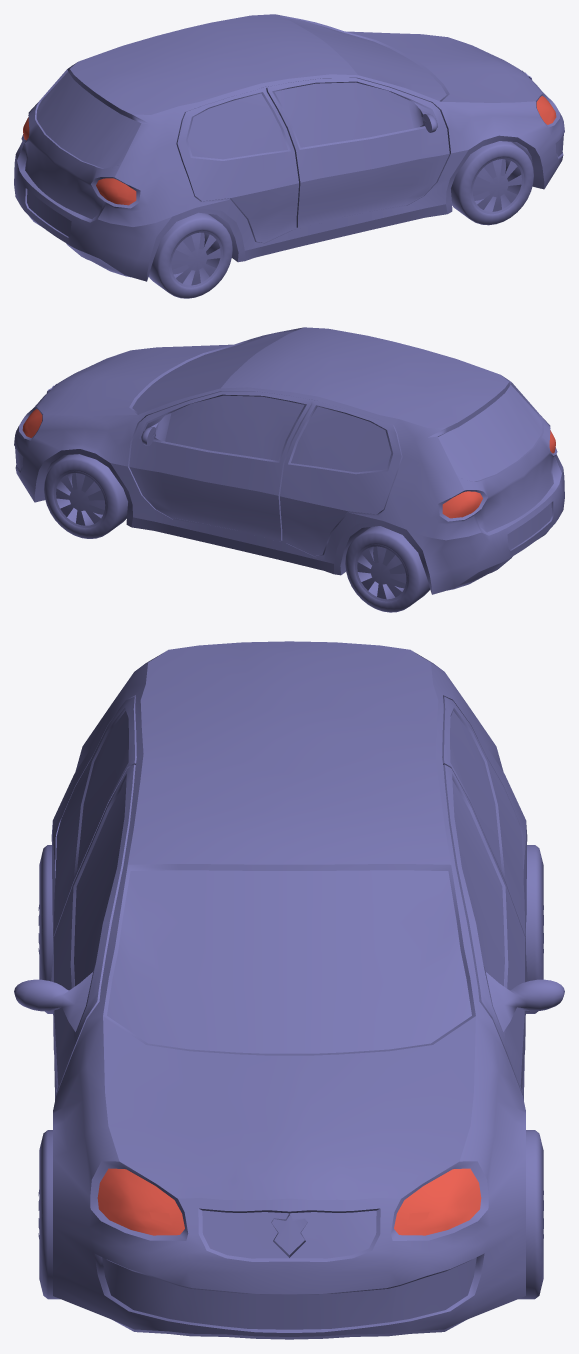
File: gol_mod3d.fbx
3 views of the same model, one above another, from view 1: azimuth 30°, elevation 25°; view 2: azimuth 150°, elevation 25°; view 3: azimuth 270°, elevation 25° (orthographic). The views are drawn at different scales.
Visible parts, largest first — view 1: Veiculo, Roda.003, Roda.002; view 2: Veiculo, Roda, Roda.001; view 3: Veiculo, Roda, Roda.001, Roda.003, Roda.002.
Part boxes in pixels (left/top/right/bottom): Veiculo: left=14, top=14, right=564, bottom=281; Roda.003: left=451, top=141, right=533, bottom=225; Roda.002: left=148, top=212, right=232, bottom=298; Veiculo: left=14, top=327, right=564, bottom=594; Roda: left=44, top=454, right=127, bottom=538; Roda.001: left=345, top=526, right=430, bottom=612; Veiculo: left=14, top=641, right=564, bottom=1339; Roda: left=518, top=1130, right=543, bottom=1299; Roda.001: left=526, top=845, right=543, bottom=1013; Roda.003: left=38, top=1130, right=60, bottom=1299; Roda.002: left=38, top=845, right=52, bottom=1013.
Size of the model in its own units: 1703 by 588 by 851.
